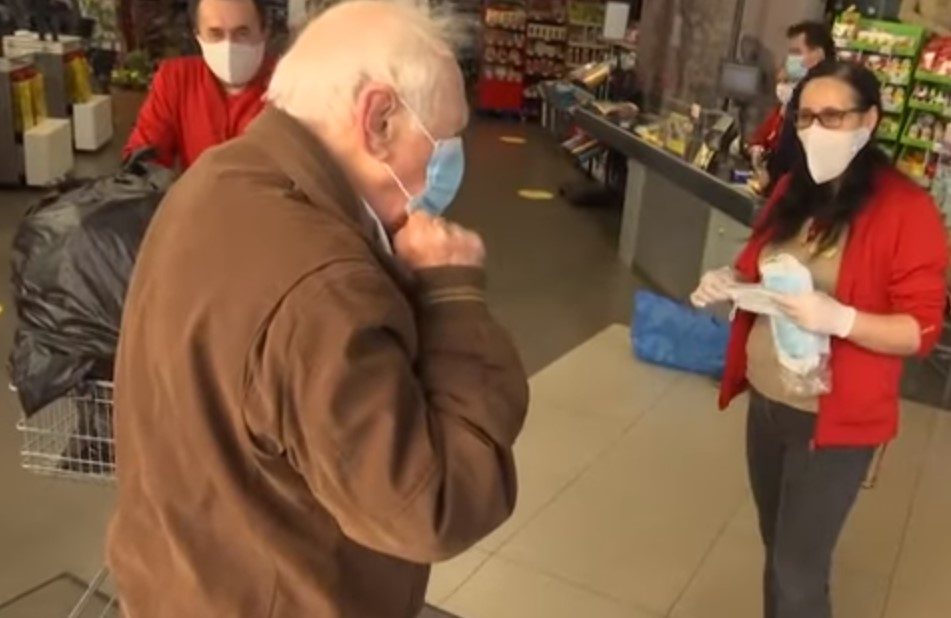face_with_mask: (349, 8, 481, 230), (788, 59, 886, 192), (190, 0, 270, 87), (785, 23, 828, 81)
